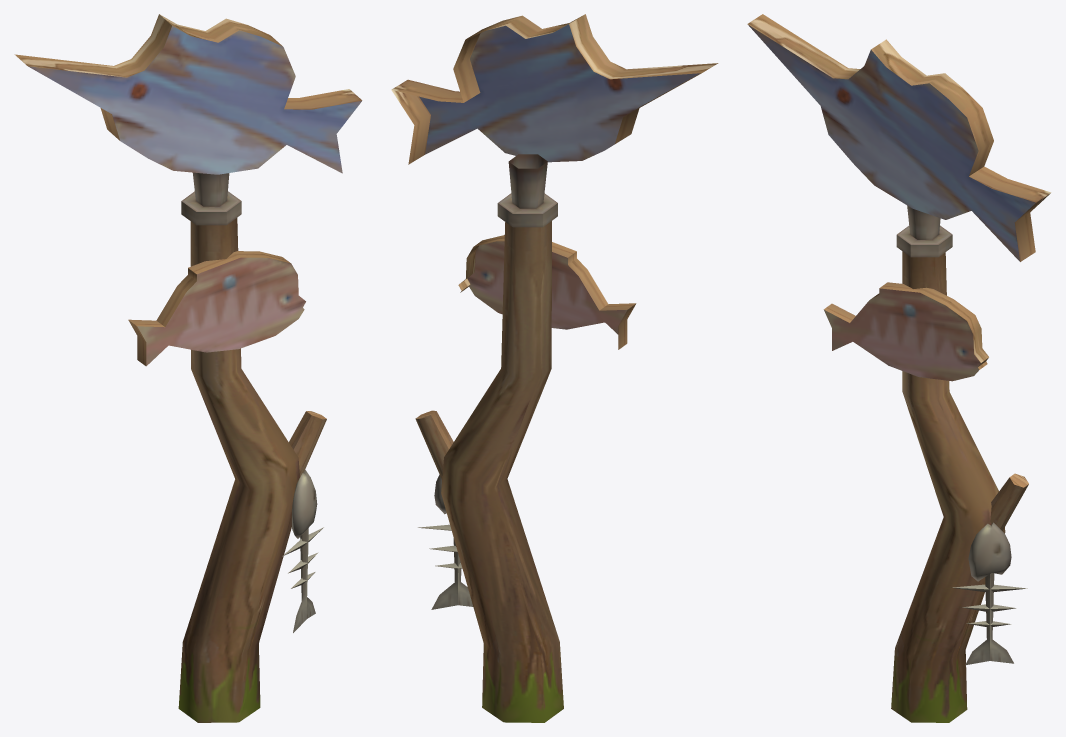
Rendered from Map_05_roadsign02.FBX.
3 renders of one model, left to right at view 1: azimuth 30°, elevation 25°; view 2: azimuth 150°, elevation 25°; view 3: azimuth 330°, elevation 25°, orthographic. The views are drawn at different scales.
Visible parts, largest first — view 1: Map_05_roadsign02; view 2: Map_05_roadsign02; view 3: Map_05_roadsign02.
Part boxes in pixels (left/top/right/bottom): Map_05_roadsign02: left=14, top=14, right=362, bottom=722; Map_05_roadsign02: left=391, top=14, right=718, bottom=722; Map_05_roadsign02: left=747, top=14, right=1051, bottom=722.
Bounding box in the file's own units: 245 × 506 × 50.97.
Materials: 1 (1 with a texture image).
